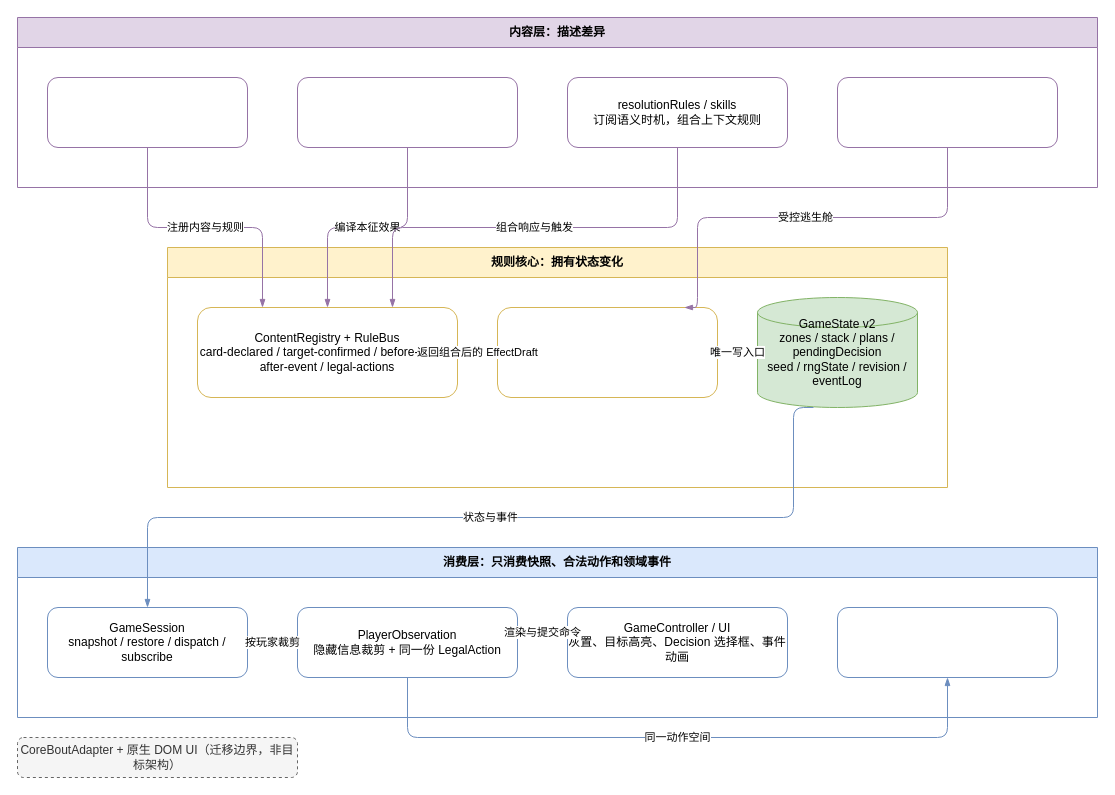
The diagram is 1115 pixels wide and 795 high, and some of its shapes have lost their labels. Each missing label, with the centre of its shape:
"CardDefinition TargetSpec + AbilityProgram + tags" goes at point (407, 112).
"ContentPack id / version / requires / provenance" goes at point (147, 112).
"dispatch(command) 校验 LegalAction，编译 EffectPlan，推进状态机" goes at point (607, 352).
"PolicySearchAgent / Self-play 在 LegalAction 前沿上评分与搜索" goes at point (947, 642).
"WorkflowDefinition 复杂流程只返回 EffectDraft 或 Decision" goes at point (947, 112).
